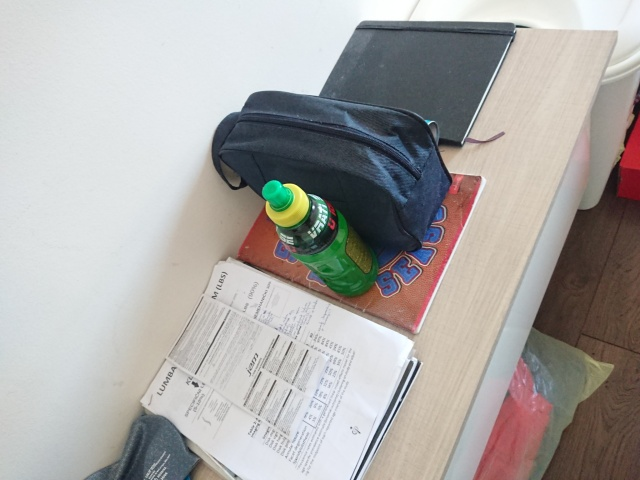Vindi Iso Sport Lemon-Grapefruit 500mL: (258, 177, 382, 300)
